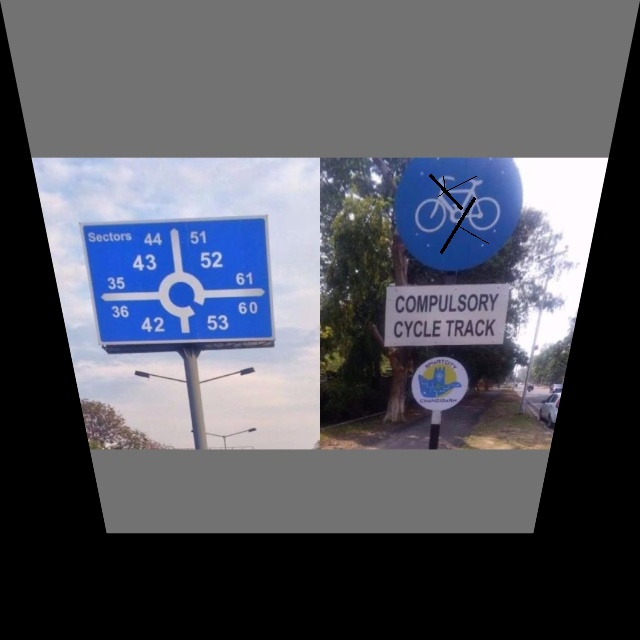Compulsory_Cycle_Track: (395, 157, 520, 270)
